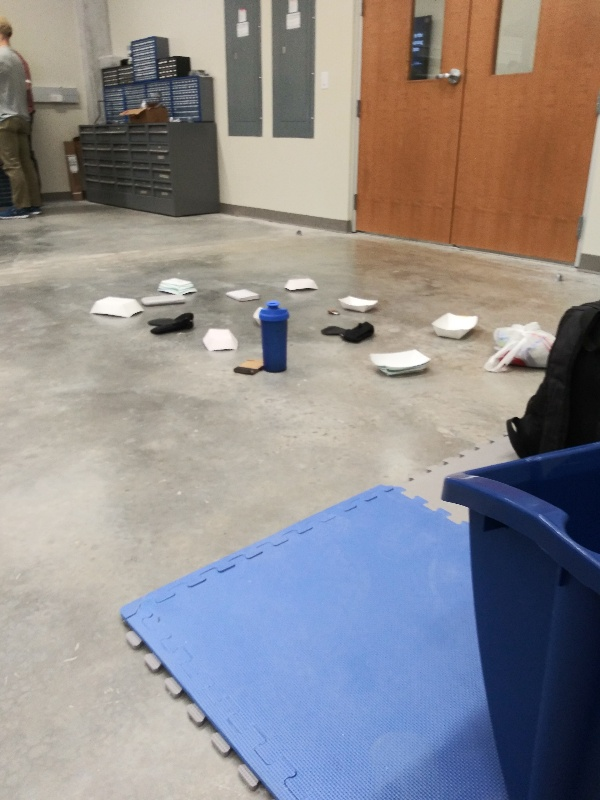plate: (368, 344, 434, 382), (424, 307, 482, 341), (87, 292, 147, 321), (332, 287, 386, 317), (156, 272, 200, 301), (203, 325, 238, 356), (280, 272, 320, 296)
